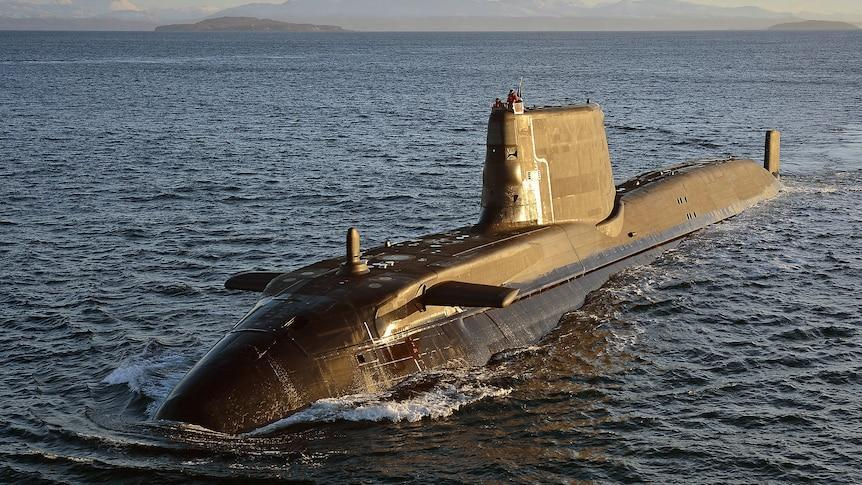Submarine: (79, 16, 862, 485)
